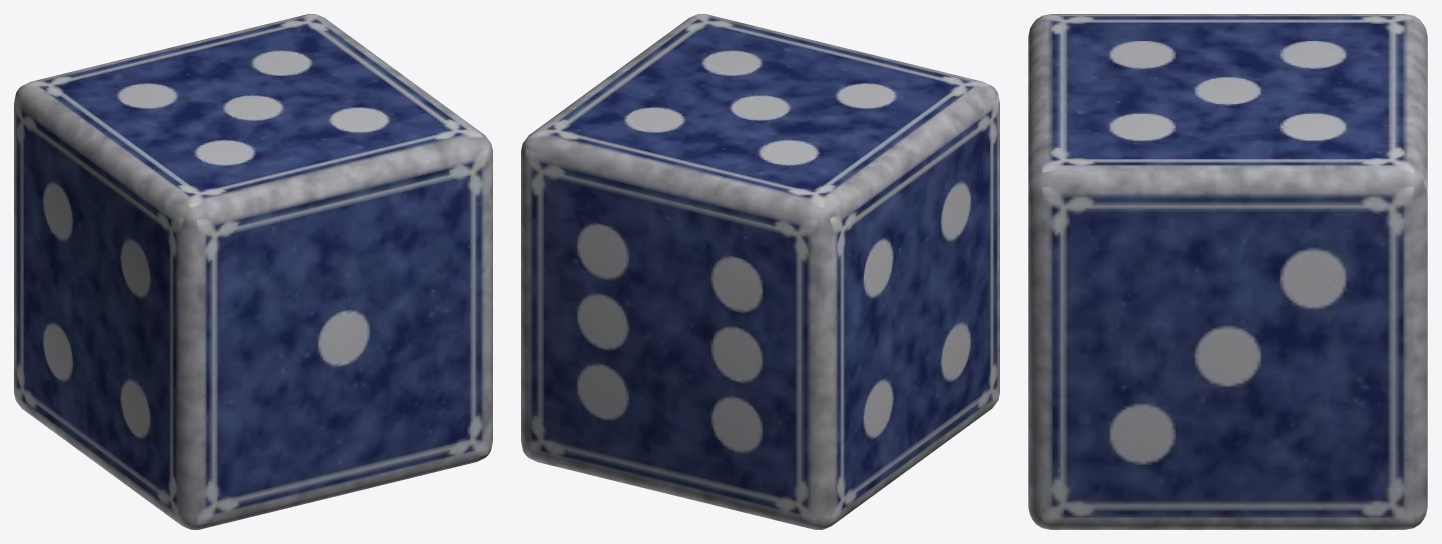
The model's file is breton-d6.glb.
The picture shows the model from 3 angles, left to right: view 1: azimuth 30°, elevation 25°; view 2: azimuth 150°, elevation 25°; view 3: azimuth 270°, elevation 25°; orthographic projection. The views are drawn at different scales.
Visible parts, largest first — view 1: breton_d6; view 2: breton_d6; view 3: breton_d6.
Part boxes in pixels (x1,y1,x2,y2): breton_d6: [14, 14, 492, 529]; breton_d6: [521, 14, 999, 529]; breton_d6: [1028, 14, 1427, 529].
Size of the model in its own units: 1.4 by 1.4 by 1.4.
Materials: 1 (1 with a texture image).
